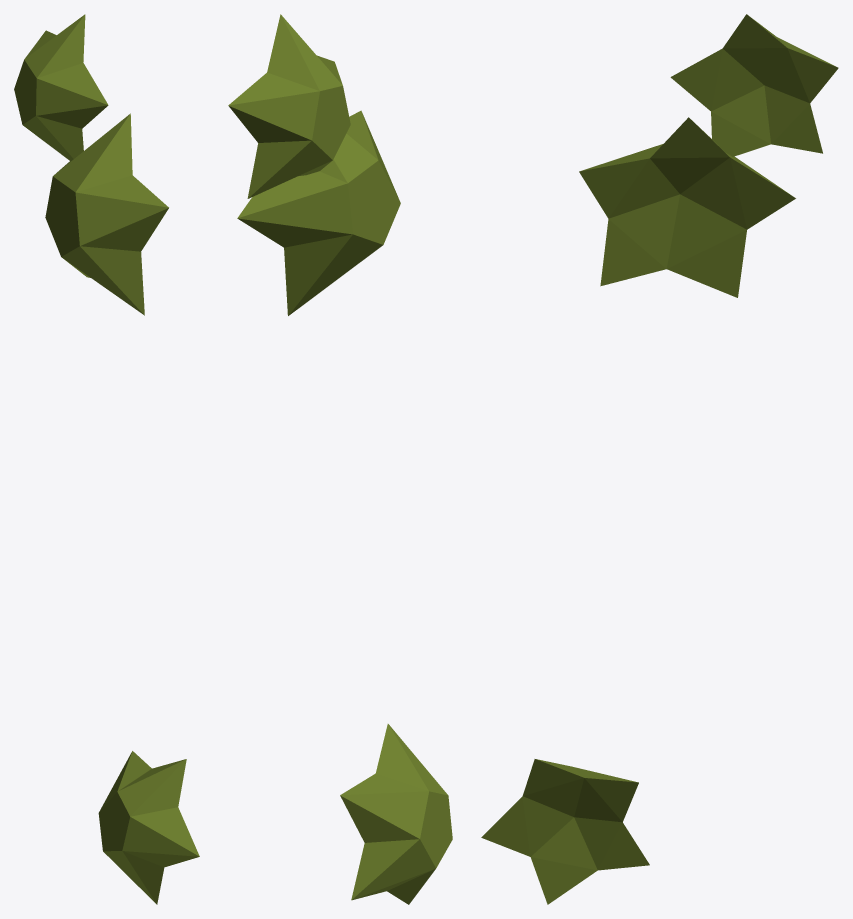
The picture shows the model from 3 angles, left to right: view 1: azimuth 30°, elevation 25°; view 2: azimuth 150°, elevation 25°; view 3: azimuth 270°, elevation 25°; orthographic projection. The views are drawn at different scales.
Visible parts, largest first — view 1: Box15989_green2_0, Box15978_green2_0, Box15991_green2_0; view 2: Box15989_green2_0, Box15991_green2_0, Box15978_green2_0; view 3: Box15989_green2_0, Box15991_green2_0, Box15978_green2_0.
Boxes of the visible parts, <box> form: Box15989_green2_0: <box>45,113,168,315</box>; Box15978_green2_0: <box>98,751,199,904</box>; Box15991_green2_0: <box>14,14,108,161</box>; Box15989_green2_0: <box>237,110,400,315</box>; Box15991_green2_0: <box>228,14,350,198</box>; Box15978_green2_0: <box>340,724,452,904</box>; Box15989_green2_0: <box>579,117,795,297</box>; Box15991_green2_0: <box>670,14,838,156</box>; Box15978_green2_0: <box>481,759,649,904</box>.
Size of the model in its own units: 60.19 by 616 by 222.
